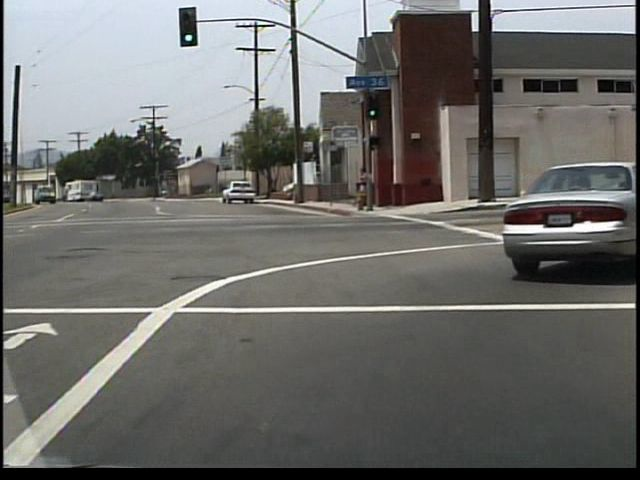person: (356, 169, 379, 214)
